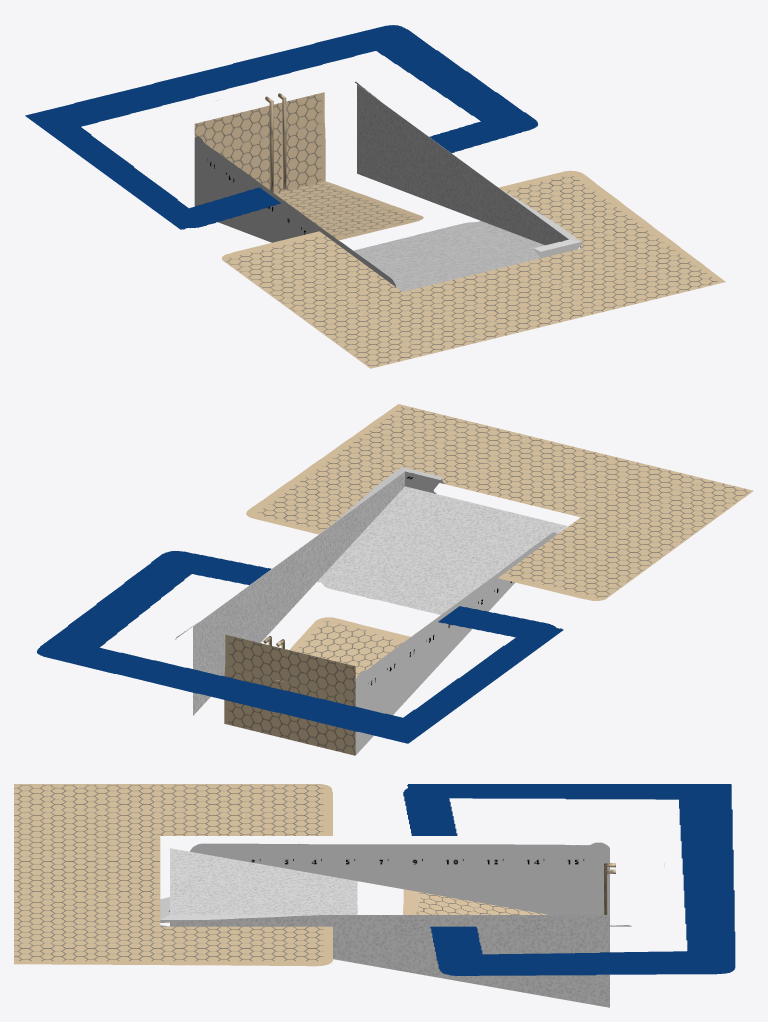
The model's file is pool.fbx.
The picture shows the model from 3 angles, top to bottom: view 1: azimuth 30°, elevation 25°; view 2: azimuth 150°, elevation 25°; view 3: azimuth 270°, elevation 25°; orthographic projection. The views are drawn at different scales.
Visible parts, largest first — view 1: Plane; view 2: Plane; view 3: Plane.
Part boxes in pixels (x1,y1,x2,y2): Plane: (25, 25, 725, 368); Plane: (37, 404, 753, 755); Plane: (14, 784, 735, 1007).
Size of the model in its own units: 15902 by 3825 by 25610.
